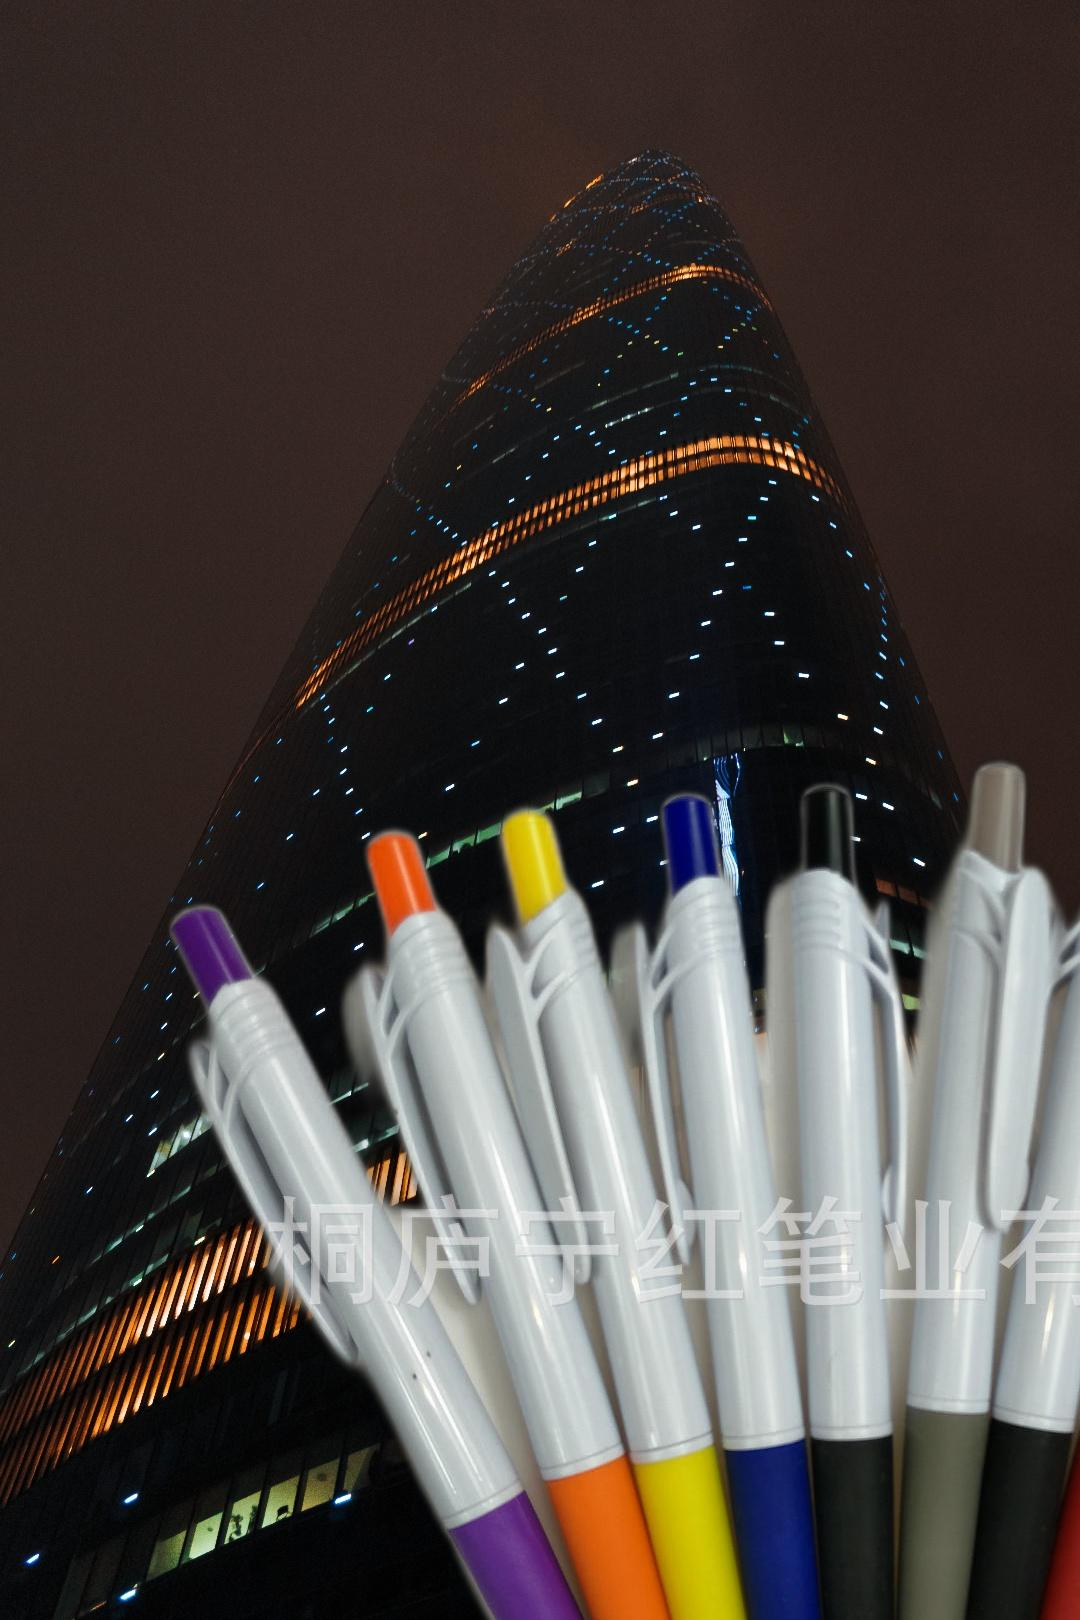penholder: (152, 746, 1080, 1620)
